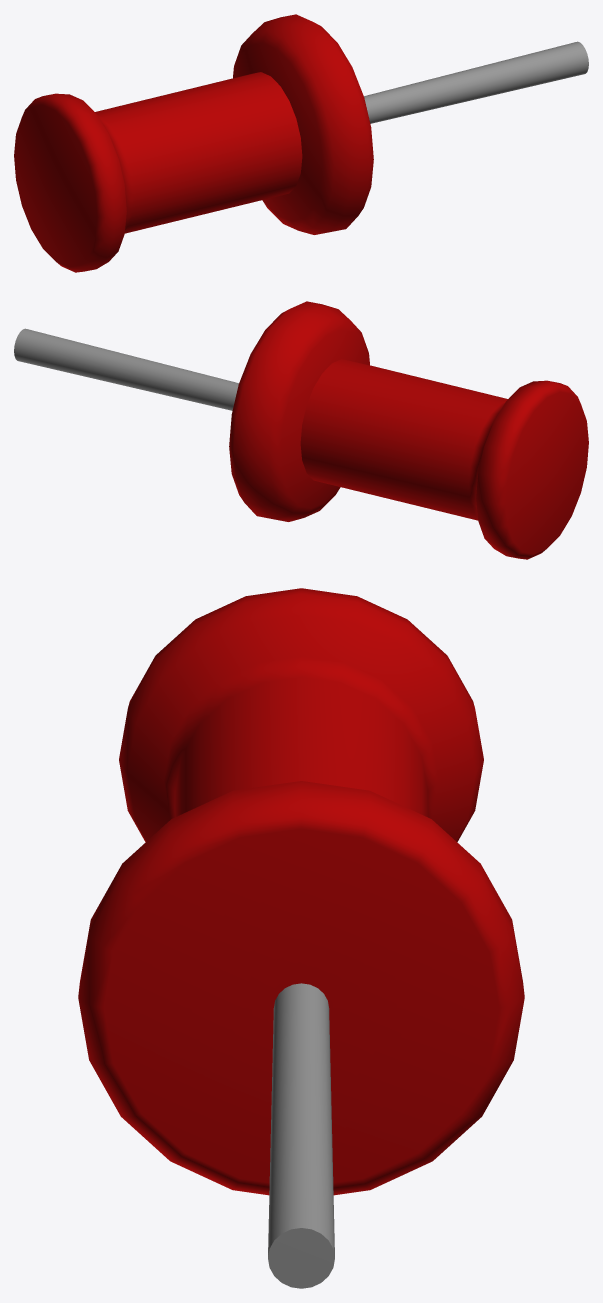
Rendered from punaise1.fbx.
3 views of the same model, one above another, from view 1: azimuth 30°, elevation 25°; view 2: azimuth 150°, elevation 25°; view 3: azimuth 270°, elevation 25° (orthographic). The views are drawn at different scales.
Visible parts, largest first — view 1: pCylinder122; view 2: pCylinder122; view 3: pCylinder122.
Boxes of the visible parts, x1,y1,x2,y2 form: pCylinder122: (14,14,588,272); pCylinder122: (14,301,588,559); pCylinder122: (78,588,524,1288).
Bounding box in the file's own units: 4.04 × 1.47 × 1.47.
